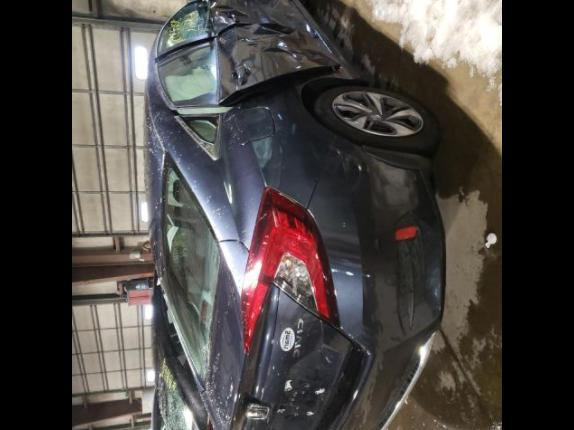Broken part: (154, 21, 344, 115), (288, 0, 304, 8)
Dent: (211, 0, 305, 39)
Missing part: (281, 369, 329, 413)
